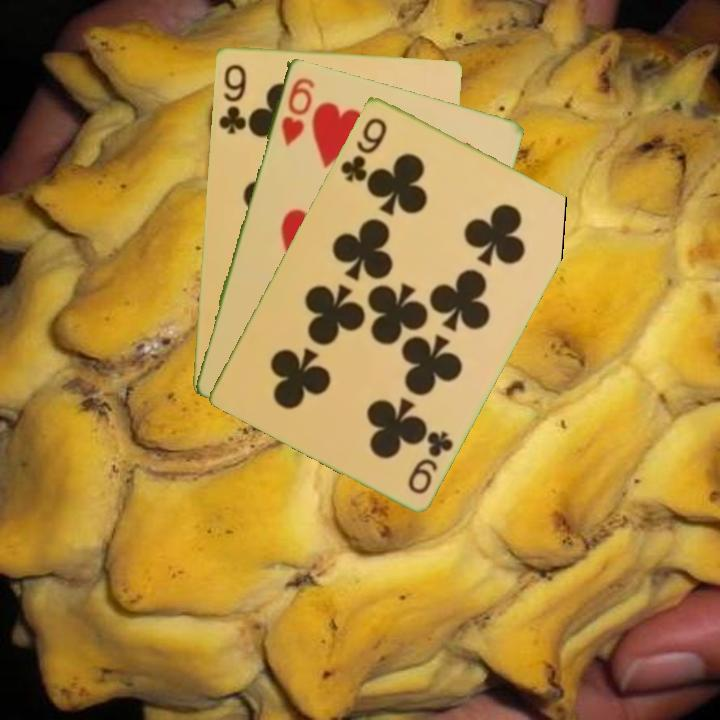6h: (277, 73, 317, 149)
9c: (337, 113, 390, 185), (404, 426, 456, 497), (215, 60, 249, 137)
